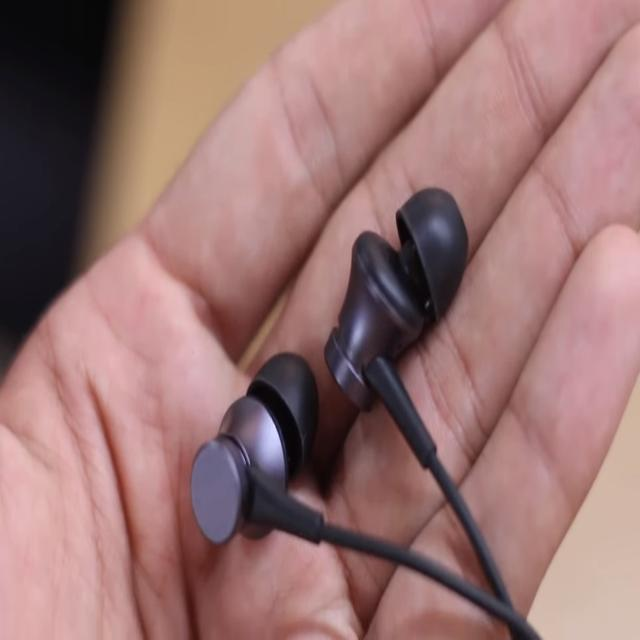Earphone: (188, 182, 540, 640)
